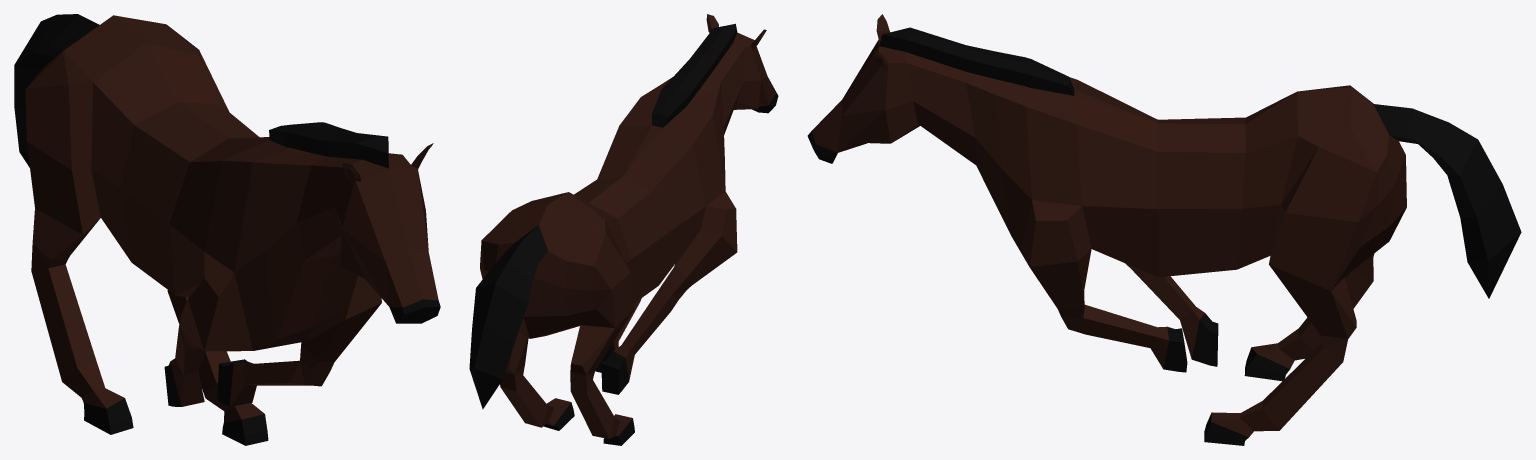
The model's file is Horse_000005.obj.
3 renders of one model, left to right at view 1: azimuth 30°, elevation 25°; view 2: azimuth 150°, elevation 25°; view 3: azimuth 270°, elevation 25°, orthographic. The views are drawn at different scales.
Parts seen in each view (by area): view 1: Horse_Cylinder; view 2: Horse_Cylinder; view 3: Horse_Cylinder.
Boxes of the visible parts, <box> form: Horse_Cylinder: <box>14,14,440,445</box>; Horse_Cylinder: <box>469,14,778,445</box>; Horse_Cylinder: <box>807,14,1521,445</box>.
Size of the model in its own units: 2.59 by 5.99 by 10.02.
